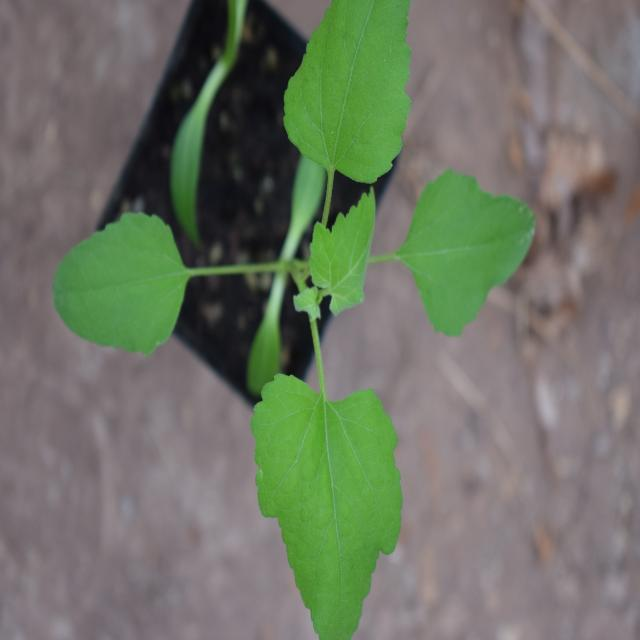cocklebur: (77, 12, 509, 599)
